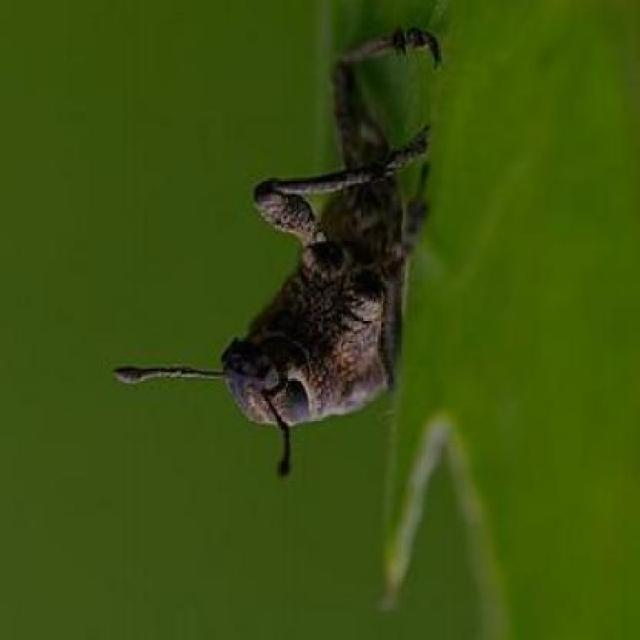rice-bug: (188, 22, 462, 452)
